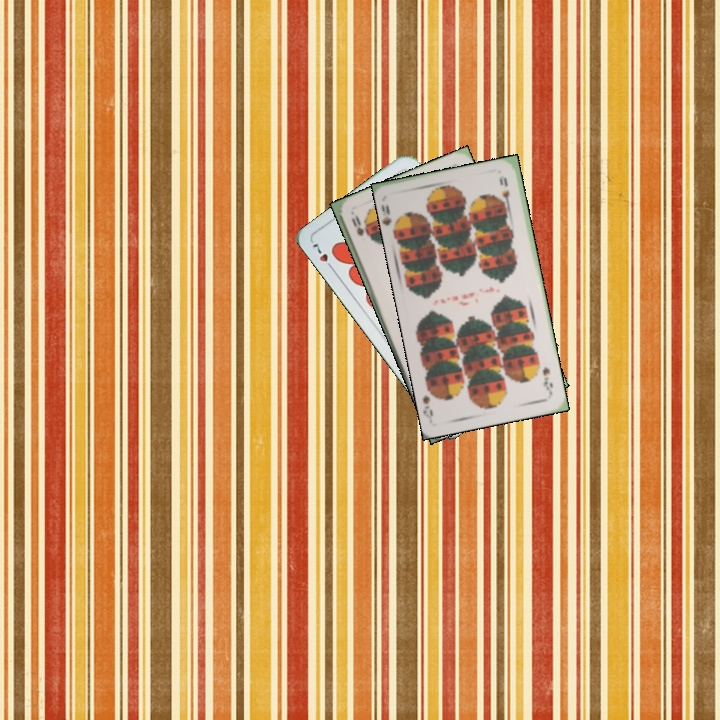H7: (308, 239, 337, 274)
S9: (379, 200, 404, 236), (538, 363, 555, 397)
SO: (347, 211, 367, 239)
